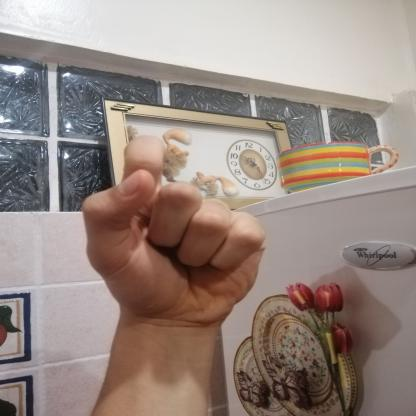FAA: (66, 123, 277, 334)
